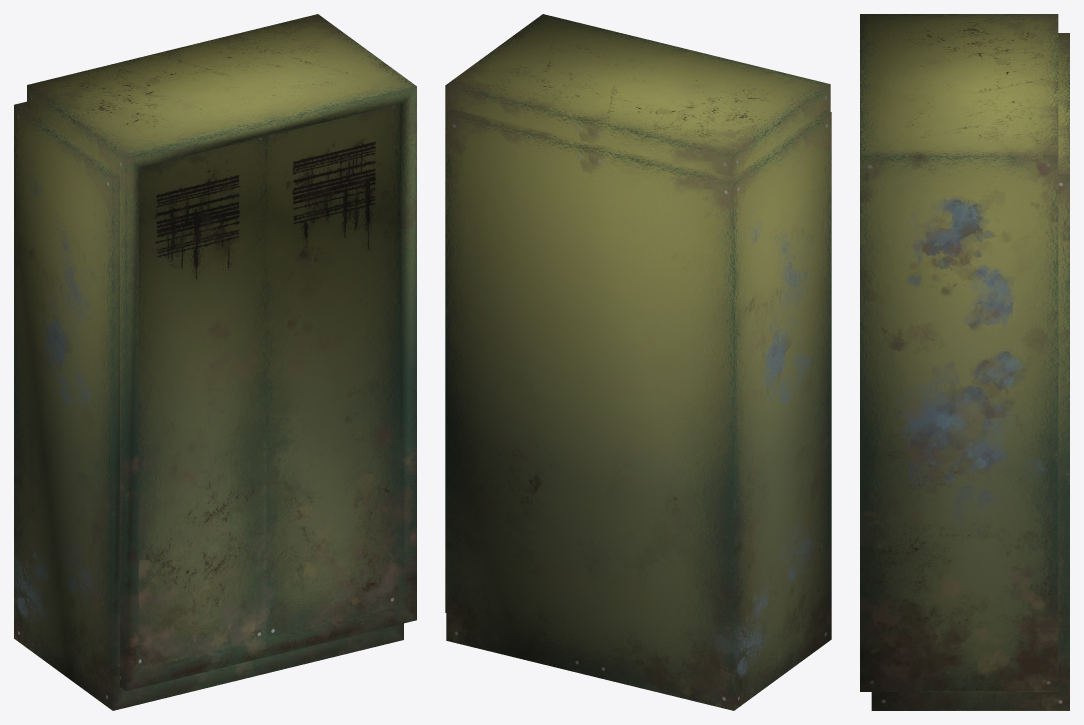
File: Placeholder shelves.glb
3 views of the same model, side by side, from view 1: azimuth 30°, elevation 25°; view 2: azimuth 150°, elevation 25°; view 3: azimuth 270°, elevation 25° (orthographic).
Visible parts, largest first — view 1: cabinet1_mesh_cabinet 1_0, cabinet2_mesh_cabinet 2_0; view 2: cabinet2_mesh_cabinet 2_0, cabinet1_mesh_cabinet 1_0; view 3: cabinet1_mesh_cabinet 1_0, cabinet2_mesh_cabinet 2_0.
Boxes of the visible parts, x1,y1,x2,y2 form: cabinet1_mesh_cabinet 1_0: [27, 14, 416, 690]; cabinet2_mesh_cabinet 2_0: [14, 101, 403, 710]; cabinet2_mesh_cabinet 2_0: [446, 109, 831, 710]; cabinet1_mesh_cabinet 1_0: [445, 14, 830, 612]; cabinet1_mesh_cabinet 1_0: [860, 14, 1058, 691]; cabinet2_mesh_cabinet 2_0: [871, 33, 1069, 710].
Size of the model in its own units: 1.3 by 2.32 by 0.7914.
3 materials, 3 textured.
